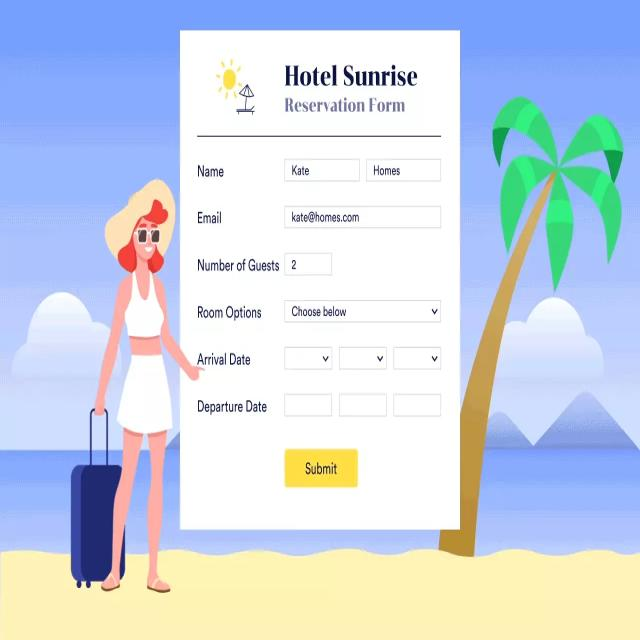buttons: (283, 448, 357, 487)
dropdown: (340, 346, 386, 370), (397, 348, 439, 368), (287, 348, 332, 364)
input-fields: (286, 299, 441, 325), (284, 208, 442, 230), (284, 159, 361, 183), (370, 159, 440, 182), (340, 396, 390, 417), (396, 397, 443, 417), (286, 395, 332, 414), (287, 256, 333, 274)
text: (286, 64, 419, 114)
